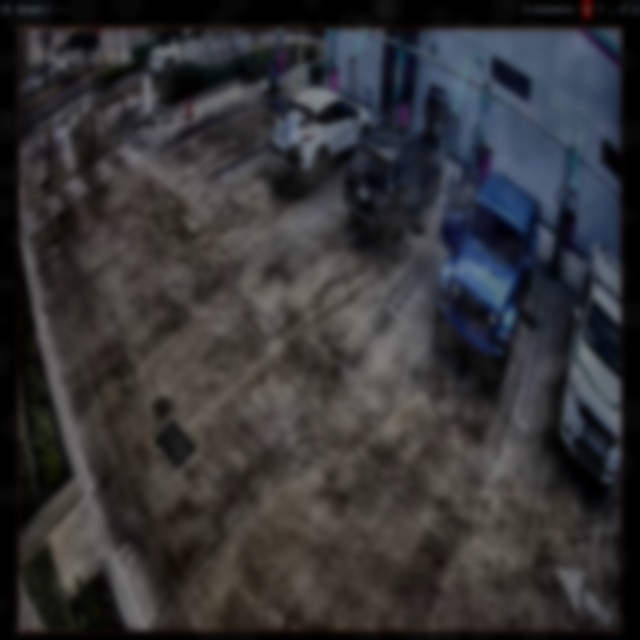Car: (433, 168, 542, 378), (344, 123, 442, 246), (272, 85, 369, 177)
